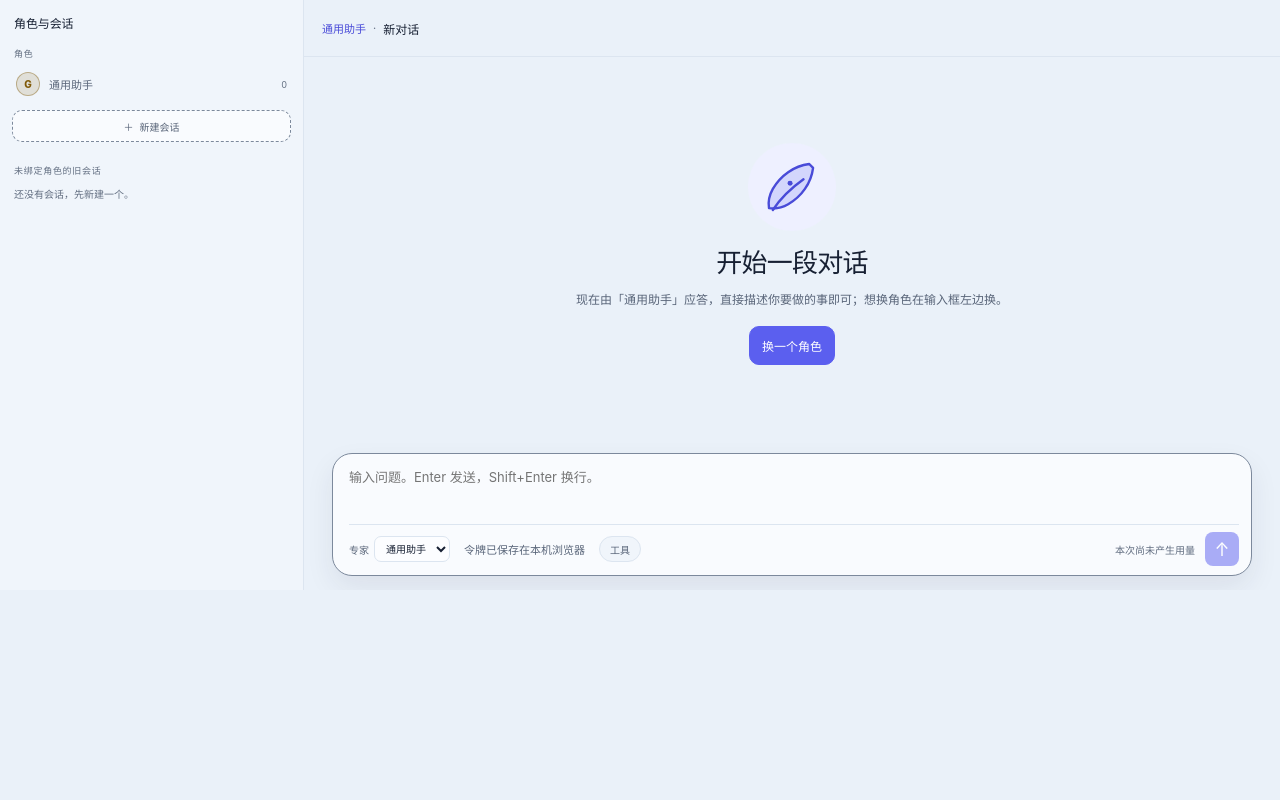
新建会话时发消息失败，必须把服务端写的「下一步」显示出来（ISSUE-035）
Expected: the dropdown is shown, 374,536 -> 450,562
Type "1+1 等于几？" into the text box named "消息" at (794, 491), box 349,463 -> 1239,519
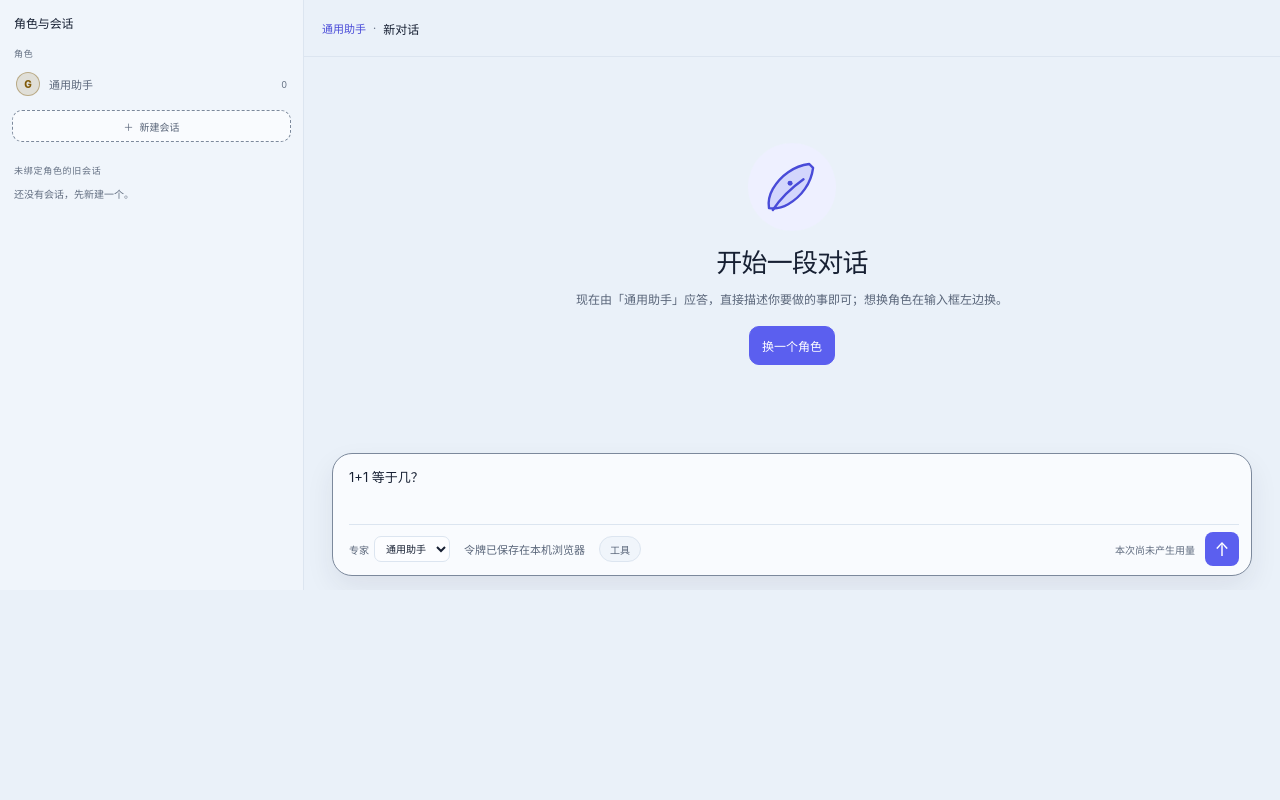
Submit the form named "消息", box 332,453 -> 1252,576
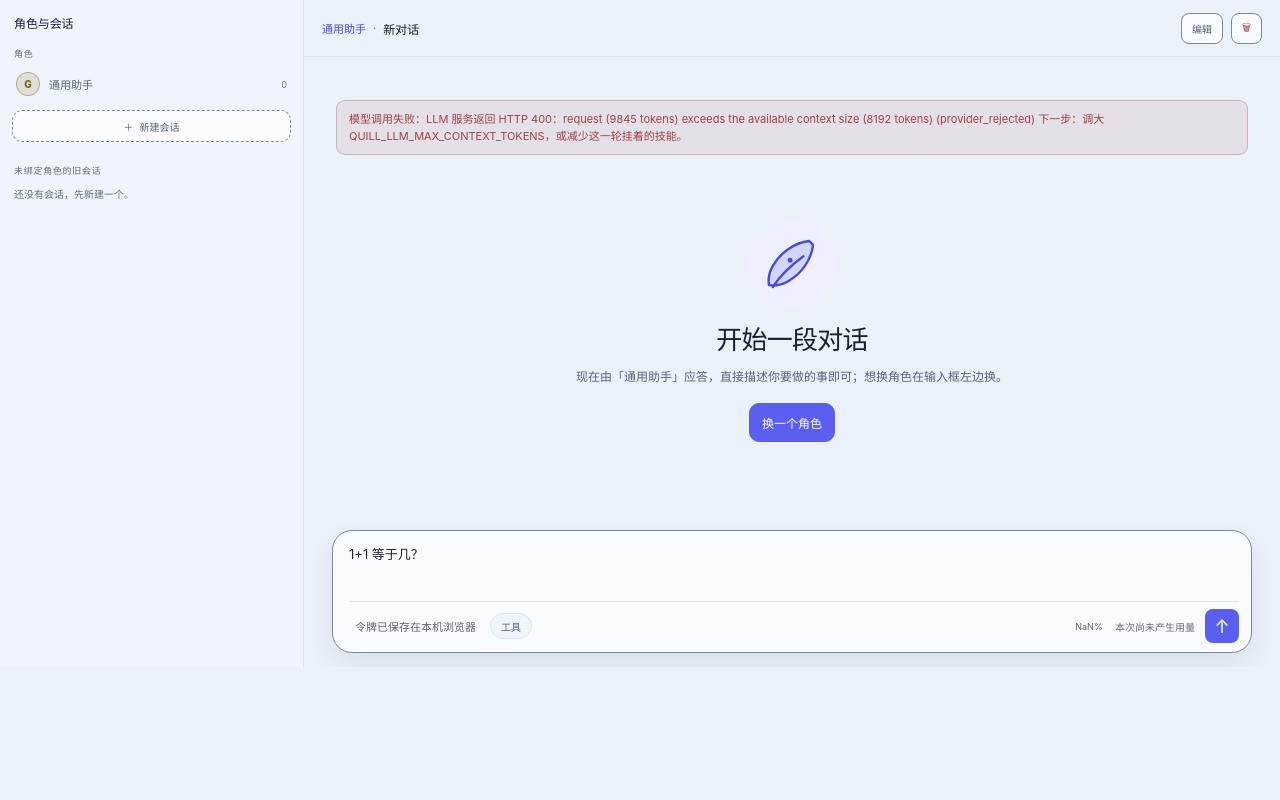
Result: the message is shown at 336,100 -> 1248,155
Result: the message shows "exceeds the available context size" at 349,112 -> 1104,142
Result: the message shows "下一步：" at 349,112 -> 1104,142
